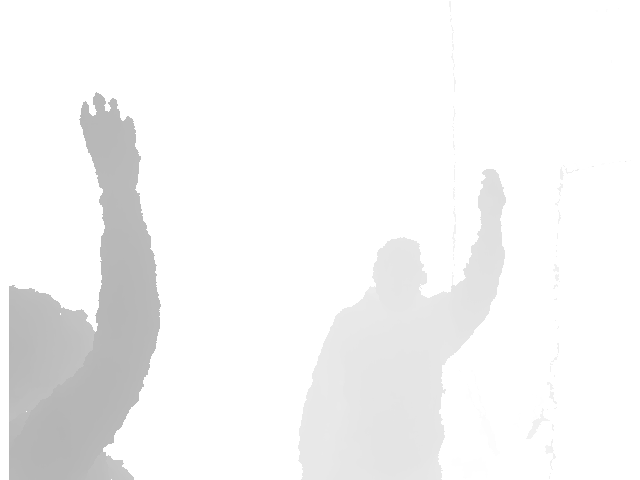hand: (80, 92, 141, 204), (475, 169, 505, 244)
head: (8, 283, 111, 409), (371, 236, 428, 298)
person: (297, 169, 506, 480), (8, 93, 162, 480)
